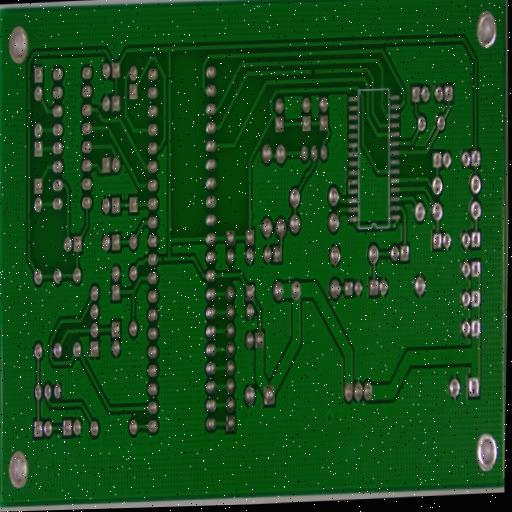open_circuit: (309, 66, 319, 78), (160, 255, 166, 265), (26, 236, 30, 249)
